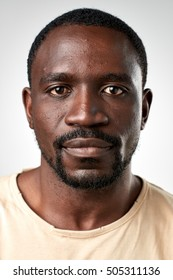man: (21, 7, 153, 189)
